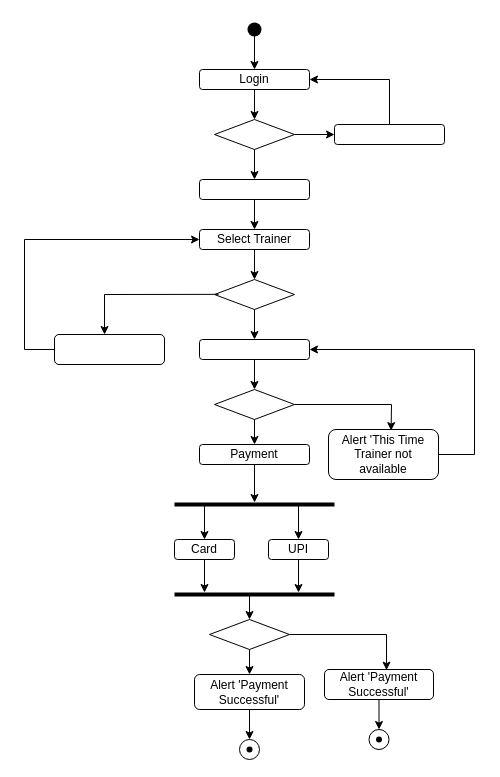
The diagram is 500 pixels wide and 777 high, and some of its shapes have lost their labels. The centre of each missing label's shape, as x and y in pixels:
"Alert 'Please Select Anotherr trainer'" goes at point (109, 349).
"Alert 'Successful'" goes at point (254, 189).
"Alert 'Uncessful'" goes at point (389, 134).
"Set Time" goes at point (254, 349).
